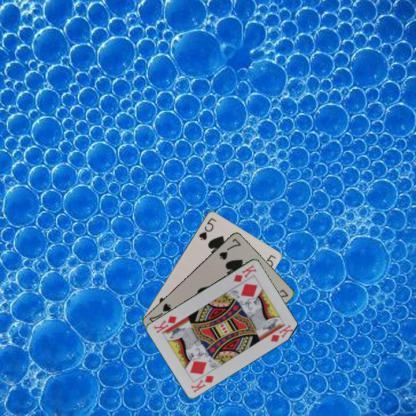5s: (196, 214, 218, 242)
7s: (216, 236, 242, 261)
Kd: (231, 262, 258, 284), (188, 372, 215, 394)
